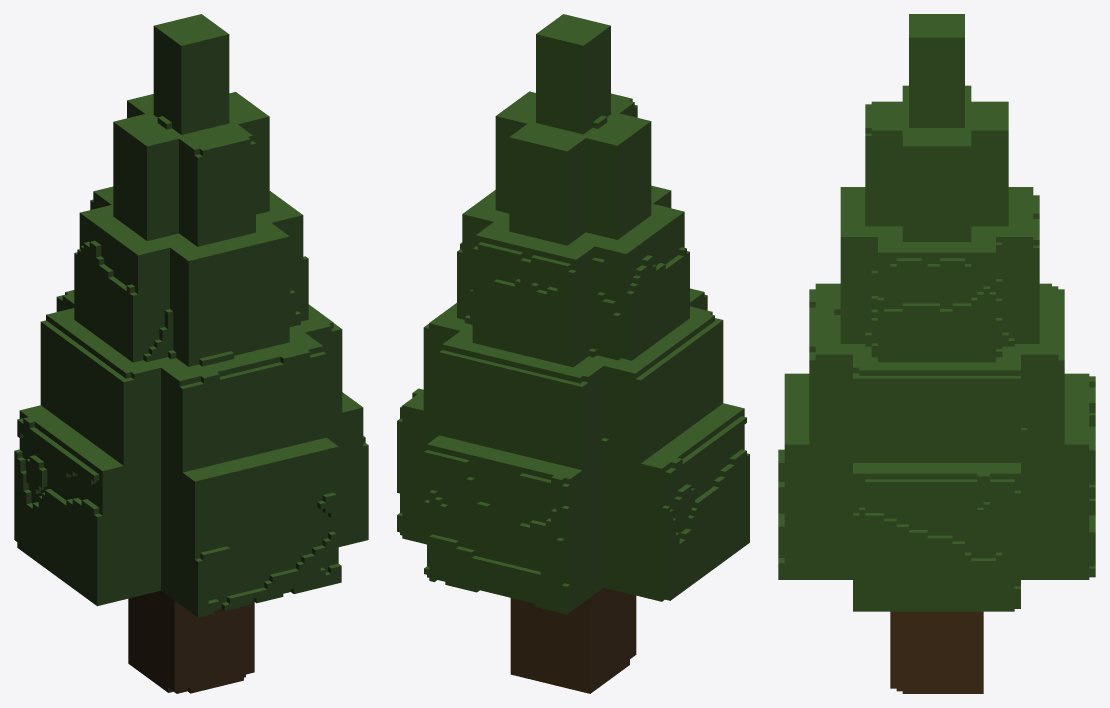
File: pine-base_basic_shaded.glb
3 views of the same model, side by side, from view 1: azimuth 30°, elevation 25°; view 2: azimuth 150°, elevation 25°; view 3: azimuth 270°, elevation 25° (orthographic).
Parts seen in each view (by area): view 1: model; view 2: model; view 3: model.
Boxes of the visible parts, bbox=[...] form: model: bbox=[14, 14, 368, 693]; model: bbox=[397, 14, 749, 693]; model: bbox=[778, 14, 1095, 693].
Size of the model in its own units: 0.841 by 1.9 by 0.841.
